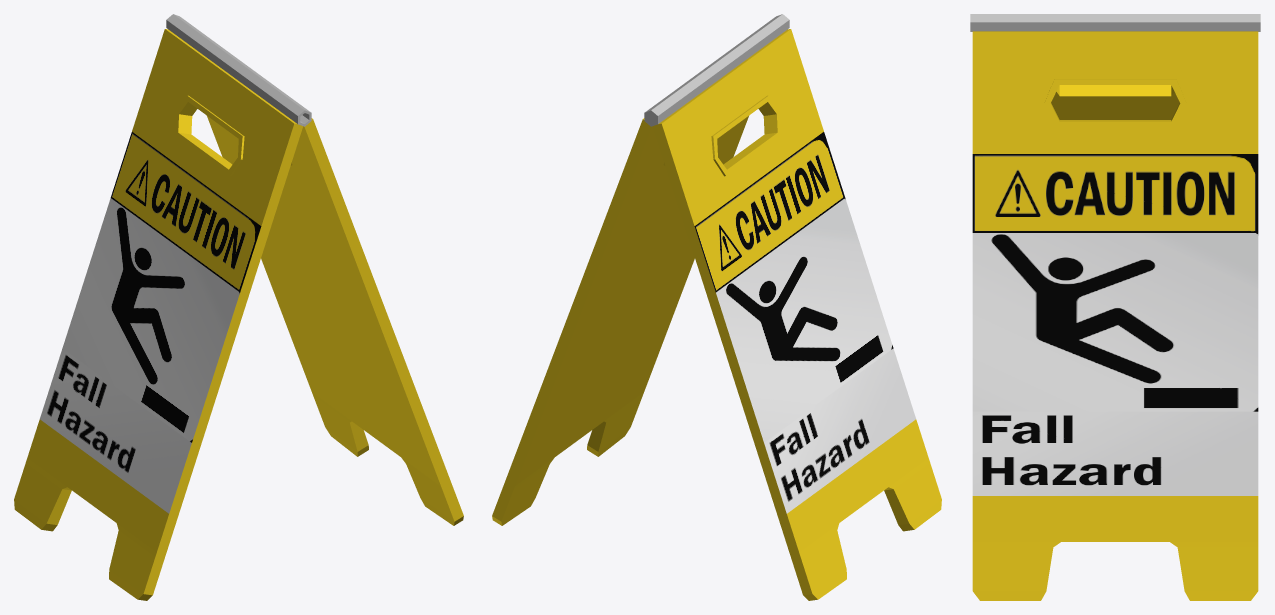
Rendered from aviso_perigo_queda.glb.
3 views of the same model, side by side, from view 1: azimuth 30°, elevation 25°; view 2: azimuth 150°, elevation 25°; view 3: azimuth 270°, elevation 25° (orthographic). The views are drawn at different scales.
Visible parts, largest first — view 1: placa; view 2: placa; view 3: placa.
Boxes of the visible parts, bbox=[...] form: placa: bbox=[14, 14, 463, 600]; placa: bbox=[492, 14, 941, 600]; placa: bbox=[970, 14, 1260, 600].
Size of the model in its own units: 2.92 by 3.89 by 2.03.
2 materials, 1 textured.
